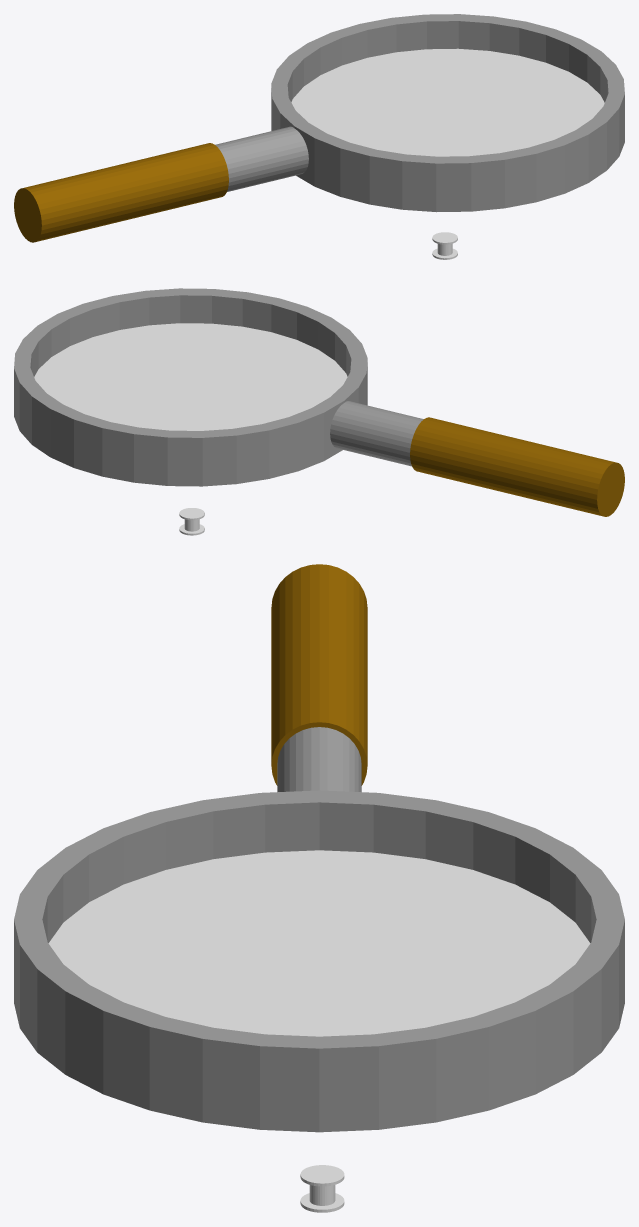
File: magnafier.glb
3 renders of one model, top to bottom at view 1: azimuth 30°, elevation 25°; view 2: azimuth 150°, elevation 25°; view 3: azimuth 270°, elevation 25°, orthographic. The views are drawn at different scales.
Parts seen in each view (by area): view 1: Magnifier, Pedistal; view 2: Magnifier, Pedistal; view 3: Magnifier, Pedistal.
Boxes of the visible parts, bbox=[...] form: Magnifier: bbox=[14, 14, 624, 242]; Pedistal: bbox=[432, 232, 457, 259]; Magnifier: bbox=[14, 288, 624, 516]; Pedistal: bbox=[179, 508, 204, 535]; Magnifier: bbox=[14, 564, 624, 1132]; Pedistal: bbox=[300, 1165, 344, 1212].
Size of the model in its own units: 147 by 40.83 by 78.55.
